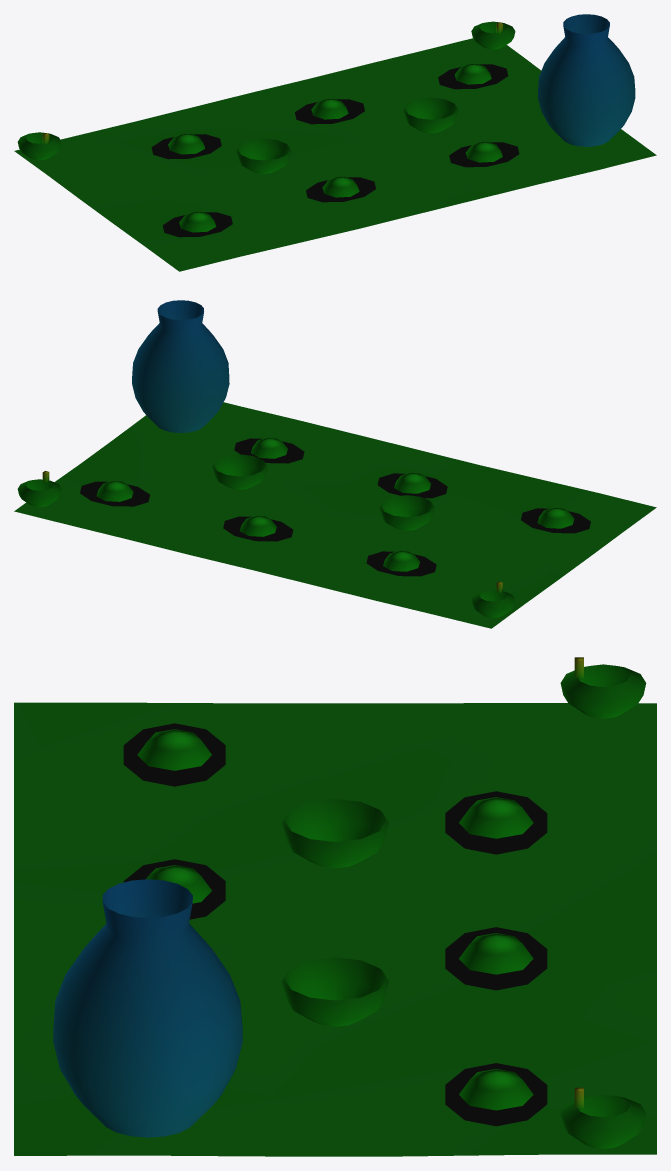
The model's file is feast_mat.glb.
3 renders of one model, top to bottom at view 1: azimuth 30°, elevation 25°; view 2: azimuth 150°, elevation 25°; view 3: azimuth 270°, elevation 25°, orthographic. The views are drawn at different scales.
Parts seen in each view (by area): view 1: feast_mat; view 2: feast_mat; view 3: feast_mat.
Boxes of the visible parts, bbox=[...] form: feast_mat: bbox=[14, 14, 656, 271]; feast_mat: bbox=[14, 300, 656, 628]; feast_mat: bbox=[14, 657, 656, 1156].
Size of what is drawn, in the model's own units: 2.06 by 0.4627 by 1.2.
